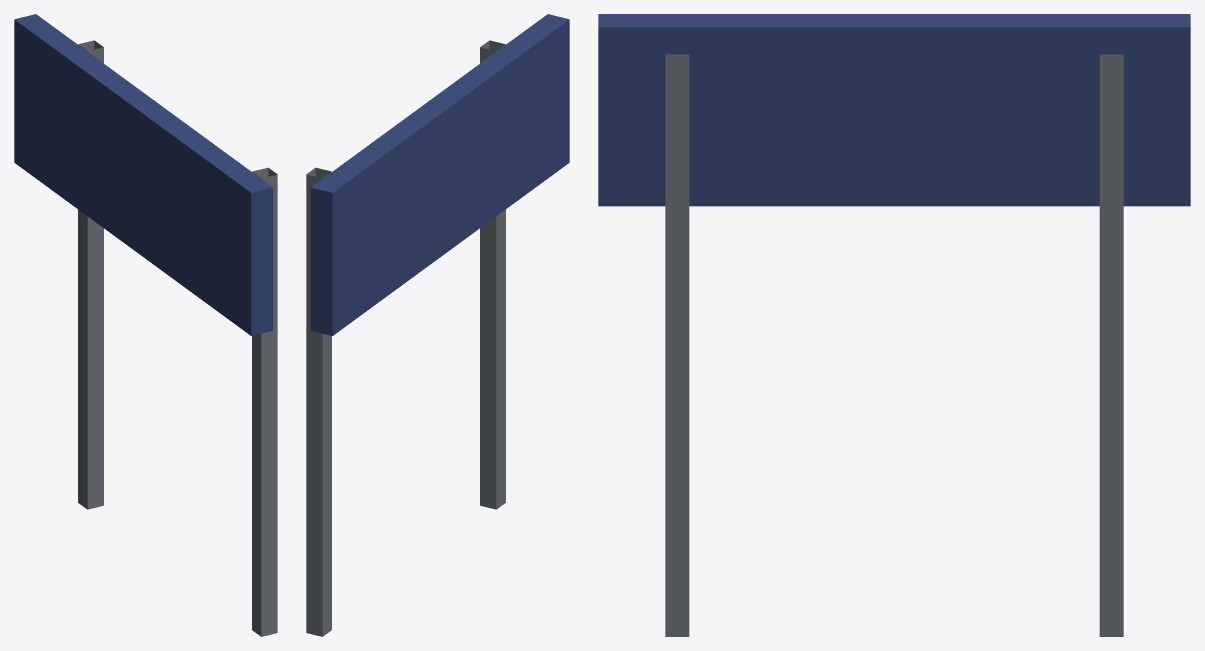
File: roofprop.fbx
The picture shows the model from 3 angles, left to right: view 1: azimuth 30°, elevation 25°; view 2: azimuth 150°, elevation 25°; view 3: azimuth 270°, elevation 25°; orthographic projection. The views are drawn at different scales.
Parts seen in each view (by area): view 1: a2004/700/roofprop; view 2: a2004/700/roofprop; view 3: a2004/700/roofprop.
Part boxes in pixels (bbox=[...]): a2004/700/roofprop: bbox=[14, 14, 277, 636]; a2004/700/roofprop: bbox=[306, 14, 569, 636]; a2004/700/roofprop: bbox=[598, 14, 1190, 636].
Bounding box in the file's own units: 0.39 × 3.3 × 3.
